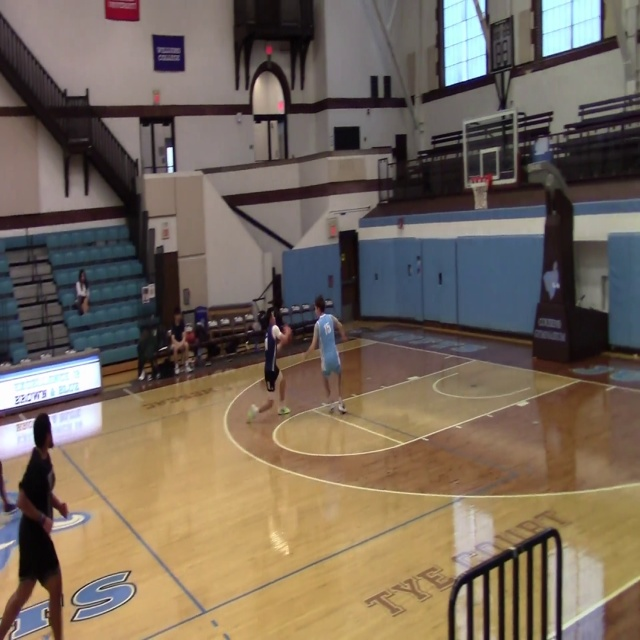Basketball: (279, 325, 292, 347), (246, 404, 258, 424), (272, 325, 281, 340)
